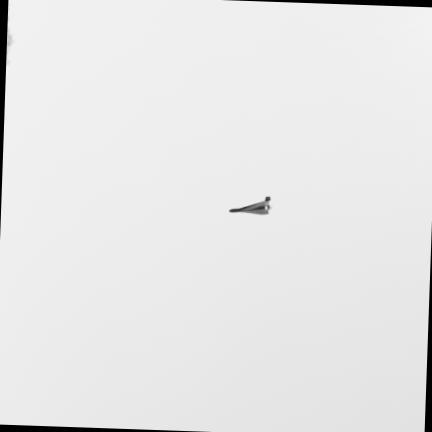Shahed: (229, 197, 270, 214)
